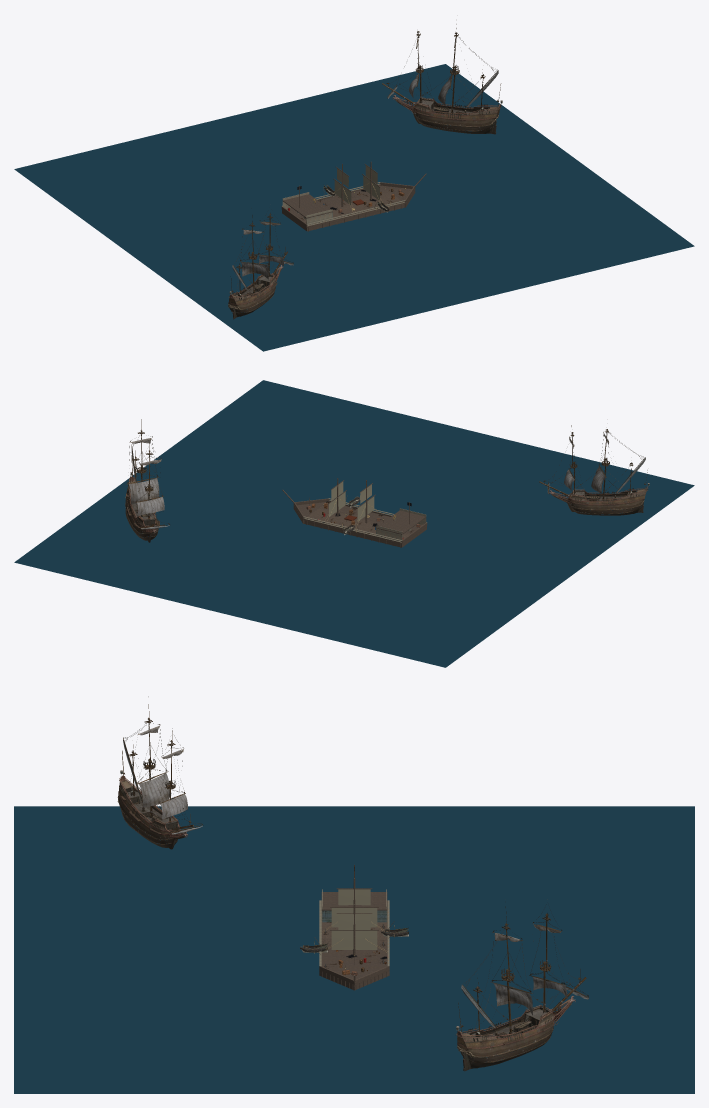
The model's file is kapal.glb.
3 renders of one model, top to bottom at view 1: azimuth 30°, elevation 25°; view 2: azimuth 150°, elevation 25°; view 3: azimuth 270°, elevation 25°, orthographic. The views are drawn at different scales.
Visible parts, largest first — view 1: laut_ombak, statis; view 2: laut_ombak, statis; view 3: laut_ombak, statis.
Part boxes in pixels (x1=…): laut_ombak: x1=14, y1=64, x2=694, y2=351; statis: x1=228, y1=24, x2=502, y2=319; laut_ombak: x1=14, y1=380, x2=694, y2=667; statis: x1=125, y1=419, x2=649, y2=547; laut_ombak: x1=14, y1=806, x2=694, y2=1093; statis: x1=117, y1=696, x2=588, y2=1071.
Bounding box in the file's own units: 180 × 48.04 × 180.
Materials: 37 (32 with a texture image).
